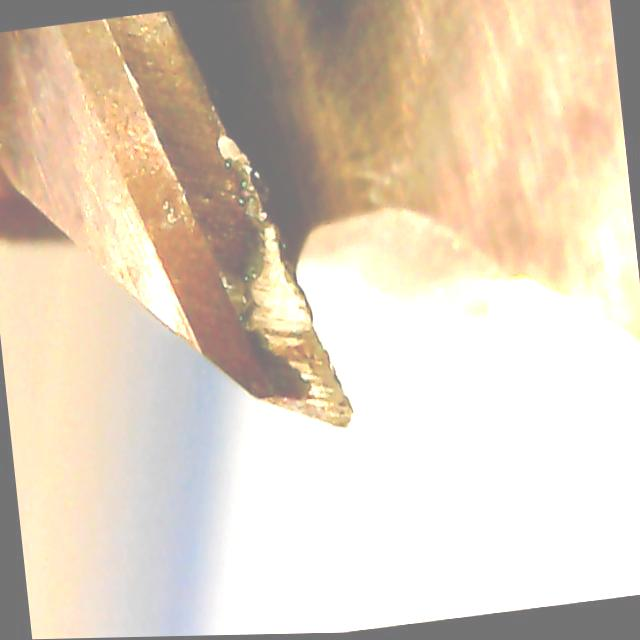Tool-wear-class-2: (173, 202, 364, 455)
